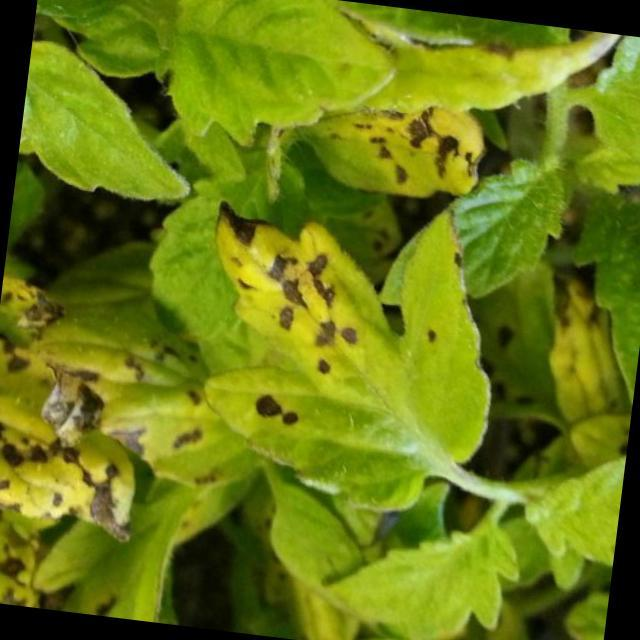Tomato leaf bacterial spot: (178, 188, 534, 530), (266, 82, 510, 218), (0, 363, 153, 546)
